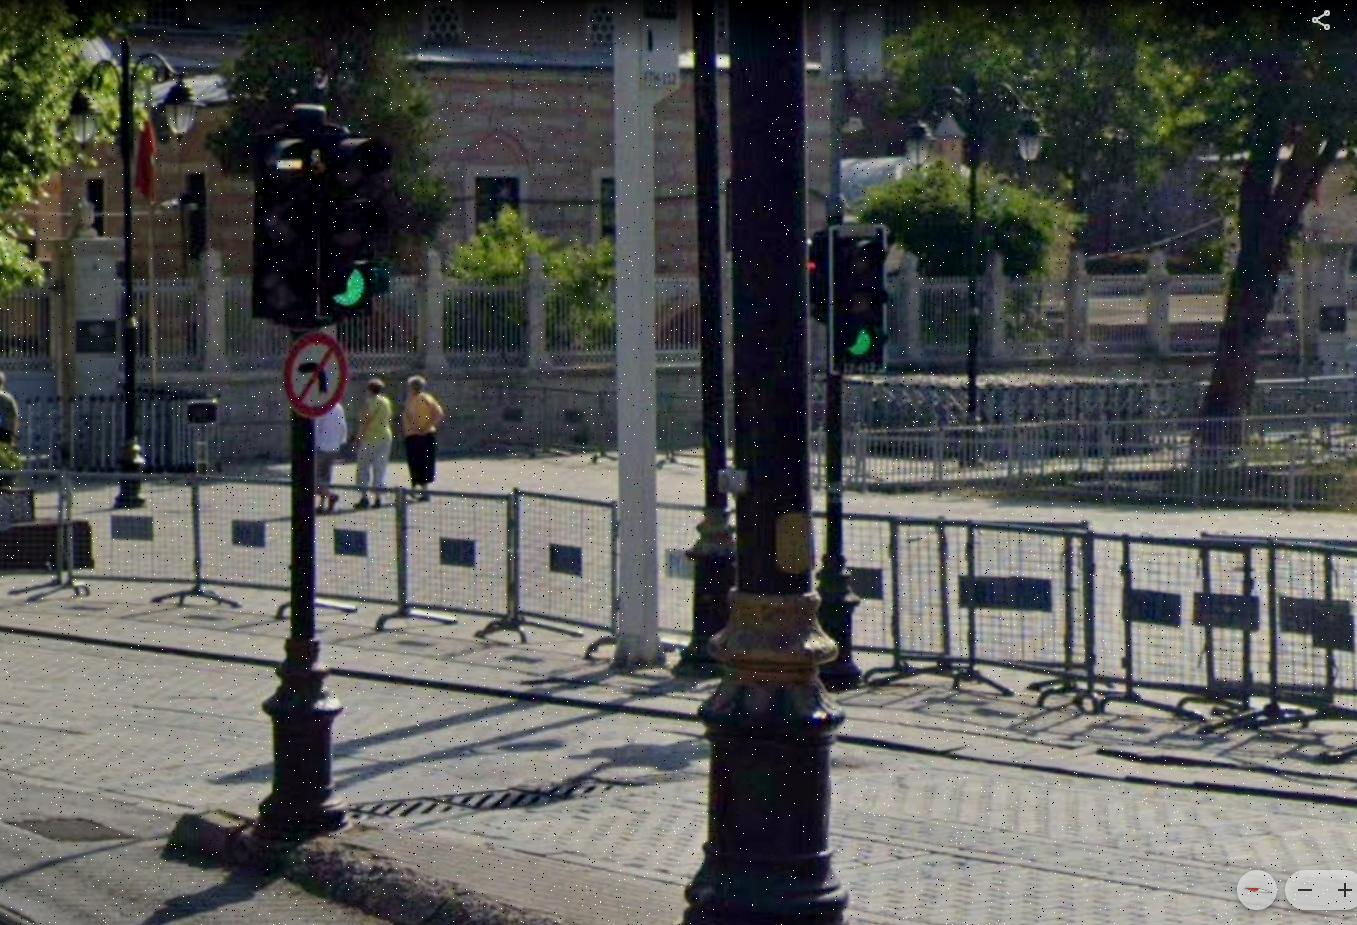greenlight: (321, 129, 391, 306), (833, 232, 895, 362)
leftturnsareforbidden: (284, 331, 347, 415)
